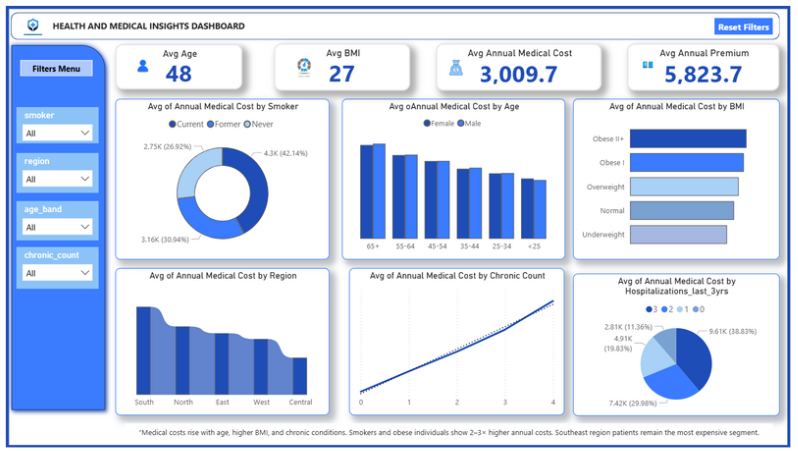

The dashboard page shown, as its layout file describes it:
{"tool":"powerbi","page":{"name":"Health Insurance Analysis","canvas":[1280,720],"ordinal":0},"visuals":[{"type":"shape","box":[1,0,1279,720.5],"z":0},{"type":"shape","box":[8.8,10.8,1253.5,44.2],"z":1000},{"type":"shape","box":[1,55,170.8,612.5],"z":2000},{"type":"clusteredColumnChart","title":"Avg oAnnual Medical Cost by Age","fields":{"Category":["medical_insurance_clean.age_band"],"Y":["Avg(medical_insurance_clean.annual_medical_cost)"],"Series":["medical_insurance_clean.sex"]},"box":[548.7,151.2,364.2,262.1],"z":3000},{"type":"barChart","title":"Avg of Annual Medical Cost by BMI","fields":{"Category":["medical_insurance_clean.bmi_band"],"Y":["Avg(medical_insurance_clean.annual_medical_cost)"],"Series":["medical_insurance_clean.bmi_band"]},"box":[925.6,151.2,336.7,262.1],"z":4000},{"type":"lineChart","title":"Avg of Annual Medical Cost by Chronic Count","fields":{"Category":["medical_insurance_clean.chronic_count"],"Y":["Avg(medical_insurance_clean.annual_medical_cost)"]},"box":[560.5,427,351.4,240.5],"z":5000},{"type":"pieChart","title":"Avg of Annual Medical Cost by Hospitalizations_last_3yrs","fields":{"Category":["medical_insurance_clean.hospitalizations_last_3yrs"],"Y":["Avg(medical_insurance_clean.annual_medical_cost)"]},"box":[925.6,435.8,336.7,231.7],"z":6000},{"type":"card","title":"Avg Annual Medical Cost","fields":{"Values":["Avg(medical_insurance_clean.annual_medical_cost)"]},"box":[701.8,60.9,269.9,76.6],"z":7000},{"type":"card","title":"Avg BMI","fields":{"Values":["Avg(medical_insurance_clean.bmi)"]},"box":[437.8,60.9,221.8,76.6],"z":8000},{"type":"card","title":"Avg Age","fields":{"Values":["Avg(medical_insurance_clean.age)"]},"box":[179.6,61.8,207.1,73.6],"z":9000},{"type":"ribbonChart","title":"Avg of Annual Medical Cost by Region","fields":{"Category":["medical_insurance_clean.region"],"Y":["Sum(medical_insurance_clean.annual_medical_cost)"]},"box":[179.6,427,349.4,240.5],"z":10000},{"type":"donutChart","title":"Avg of Annual Medical Cost by Smoker","fields":{"Category":["medical_insurance_clean.smoker"],"Y":["Avg(medical_insurance_clean.annual_medical_cost)"]},"box":[179.6,151.2,349.4,262.1],"z":11000},{"type":"slicer","fields":{"Values":["medical_insurance_clean.smoker"]},"box":[17.7,164.9,134.5,58.9],"z":12000},{"type":"slicer","fields":{"Values":["medical_insurance_clean.region"]},"box":[17.7,239.5,134.5,64.8],"z":13000},{"type":"slicer","fields":{"Values":["medical_insurance_clean.age_band"]},"box":[17.7,318,134.5,63.8],"z":14000},{"type":"slicer","fields":{"Values":["medical_insurance_clean.chronic_count"]},"box":[17.7,392.6,134.5,67.7],"z":15000},{"type":"image","box":[17.7,10.8,54,42.2],"z":16000},{"type":"shape","box":[24.3,88.5,117.7,26.3],"z":17000},{"type":"card","title":"Avg Annual Premium","fields":{"Values":["medical_insurance_clean.Avg Annual Premium"]},"box":[1014,60.9,248.3,76.6],"z":18000},{"type":"textbox","box":[194.4,680.2,1057.2,32.4],"z":19000},{"type":"textbox","box":[71.7,17.7,439.8,29.4],"z":20000},{"type":"actionButton","box":[1156.3,19.6,95.2,27.5],"z":21000},{"type":"image","box":[202.4,81.5,43,33.1],"z":21001},{"type":"image","box":[463,76.1,48.4,44.8],"z":21002},{"type":"image","box":[1020.9,69.9,52.8,51],"z":21003},{"type":"image","box":[717.3,81.5,34.9,38.5],"z":21004}]}

Visuals, with their boxes in screenshot pixels (x1, y1, x2, y2), scaled from the page's 1280x720 canvas onto the 798x451 screenshot:
shape: 1:0:797:450
shape: 5:7:787:34
shape: 1:34:107:418
"Avg oAnnual Medical Cost by Age" clusteredColumnChart: 342:95:569:259
"Avg of Annual Medical Cost by BMI" barChart: 577:95:787:259
"Avg of Annual Medical Cost by Chronic Count" lineChart: 349:267:569:418
"Avg of Annual Medical Cost by Hospitalizations_last_3yrs" pieChart: 577:273:787:418
"Avg Annual Medical Cost" card: 438:38:606:86
"Avg BMI" card: 273:38:411:86
"Avg Age" card: 112:39:241:85
"Avg of Annual Medical Cost by Region" ribbonChart: 112:267:330:418
"Avg of Annual Medical Cost by Smoker" donutChart: 112:95:330:259
slicer - medical_insurance_clean.smoker: 11:103:95:140
slicer - medical_insurance_clean.region: 11:150:95:191
slicer - medical_insurance_clean.age_band: 11:199:95:239
slicer - medical_insurance_clean.chronic_count: 11:246:95:288
image: 11:7:45:33
shape: 15:55:89:72
"Avg Annual Premium" card: 632:38:787:86
textbox: 121:426:780:446
textbox: 45:11:319:30
actionButton: 721:12:780:30
image: 126:51:153:72
image: 289:48:319:76
image: 636:44:669:76
image: 447:51:469:75
